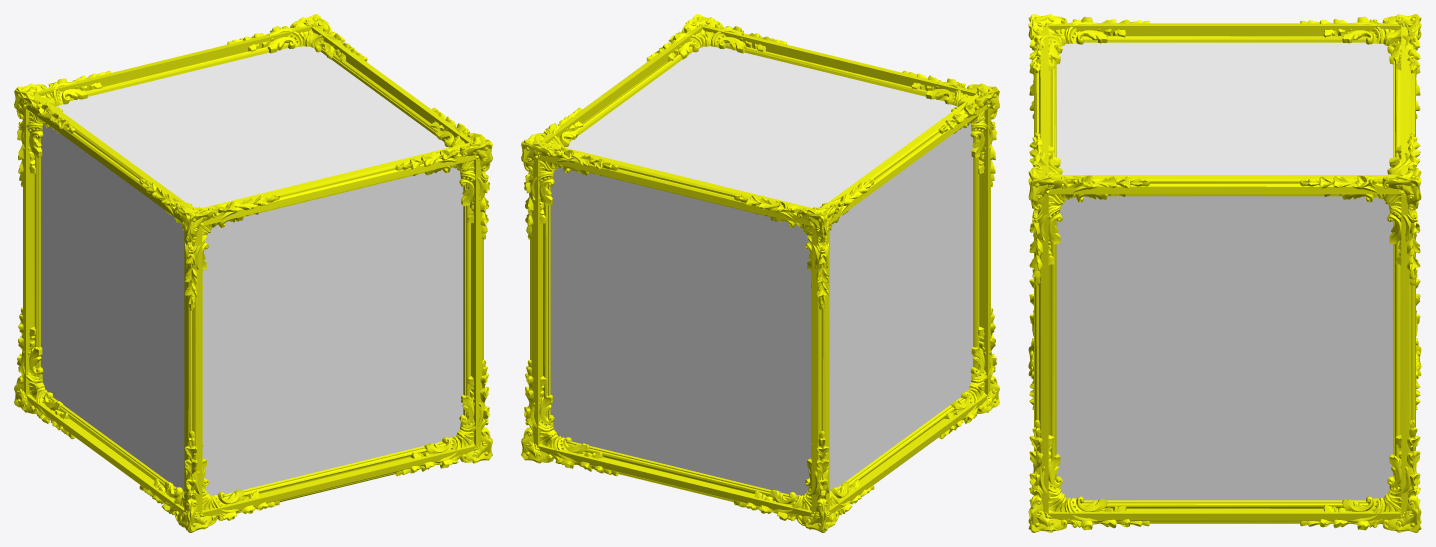
The model's file is Version 1.fbx.
The picture shows the model from 3 angles, left to right: view 1: azimuth 30°, elevation 25°; view 2: azimuth 150°, elevation 25°; view 3: azimuth 270°, elevation 25°; orthographic projection. The views are drawn at different scales.
Parts seen in each view (by area): view 1: Cube.001, www.dikart.ru_Ду-60_247x243x38mm.002; view 2: Cube.001, www.dikart.ru_Ду-60_247x243x38mm.002; view 3: Cube.001, www.dikart.ru_Ду-60_247x243x38mm.002.
Part boxes in pixels (x1=…): Cube.001: x1=41, y1=46, x2=463, y2=495; www.dikart.ru_Ду-60_247x243x38mm.002: x1=14, y1=14, x2=492, y2=532; Cube.001: x1=550, y1=46, x2=972, y2=495; www.dikart.ru_Ду-60_247x243x38mm.002: x1=521, y1=14, x2=999, y2=532; Cube.001: x1=1056, y1=42, x2=1393, y2=500; www.dikart.ru_Ду-60_247x243x38mm.002: x1=1028, y1=14, x2=1421, y2=532.
Bounding box in the file's own units: 100 × 100 × 100.
